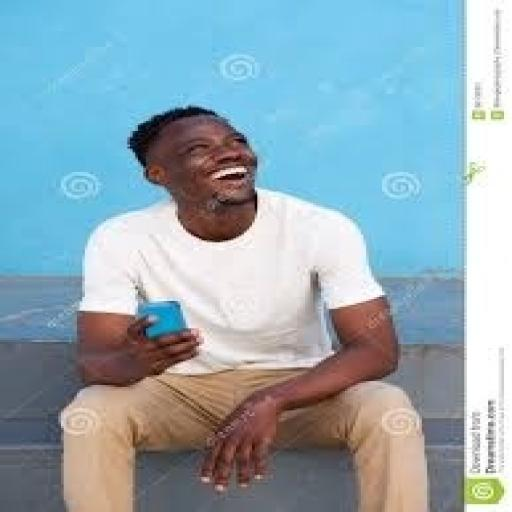sitting: (53, 104, 438, 510)
